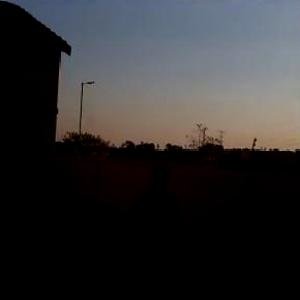follow: (123, 162, 179, 299)
